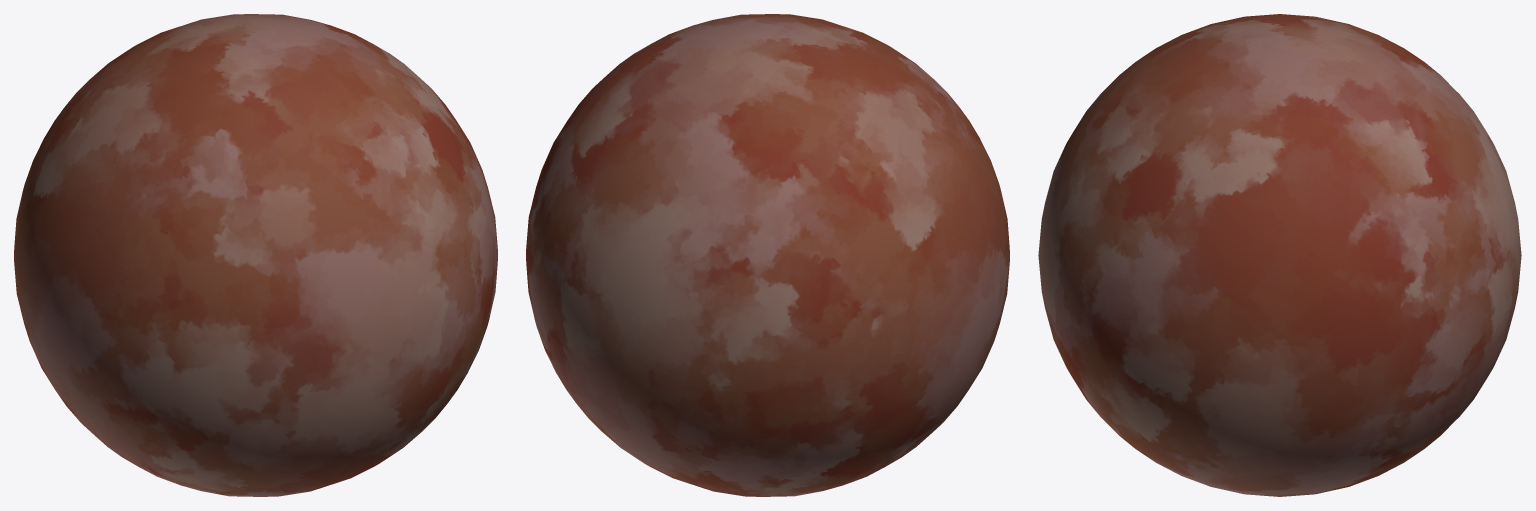
File: xxr_sphere_12.13.19.glb
3 views of the same model, side by side, from view 1: azimuth 30°, elevation 25°; view 2: azimuth 150°, elevation 25°; view 3: azimuth 270°, elevation 25° (orthographic).
Parts seen in each view (by area): view 1: Object_2; view 2: Object_2; view 3: Object_2.
Part boxes in pixels (bbox=[...]): Object_2: bbox=[14, 14, 497, 496]; Object_2: bbox=[526, 14, 1009, 496]; Object_2: bbox=[1038, 14, 1521, 496].
Bounding box in the file's own units: 2.15 × 2.15 × 2.15.
Materials: 1 (1 with a texture image).
